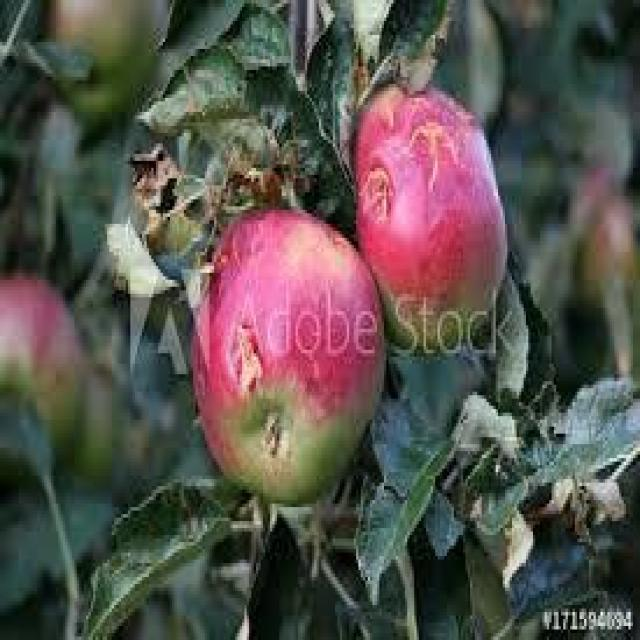maca: (186, 202, 386, 503), (349, 77, 507, 350)
